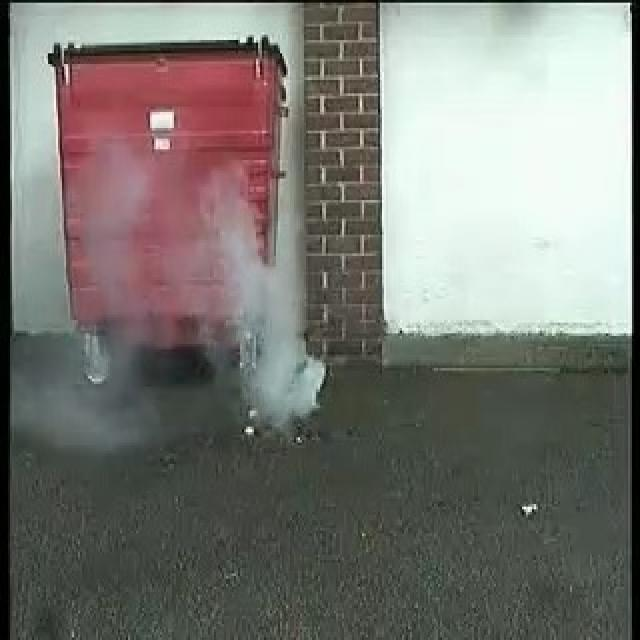smoke: (204, 182, 329, 431)
